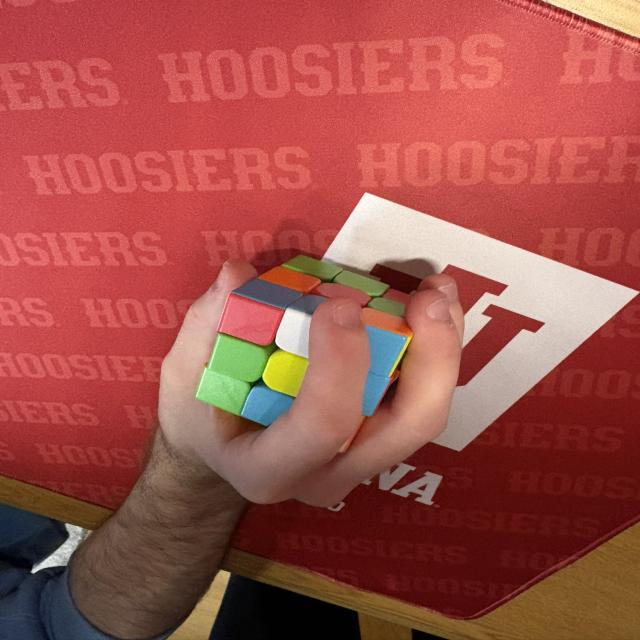Rubiks Cube: (195, 255, 415, 454)
